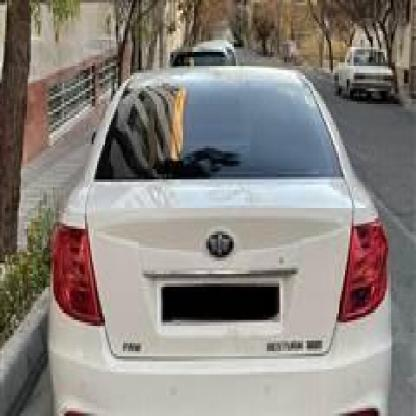Car: (38, 65, 397, 416), (336, 21, 394, 104), (172, 50, 237, 80)
